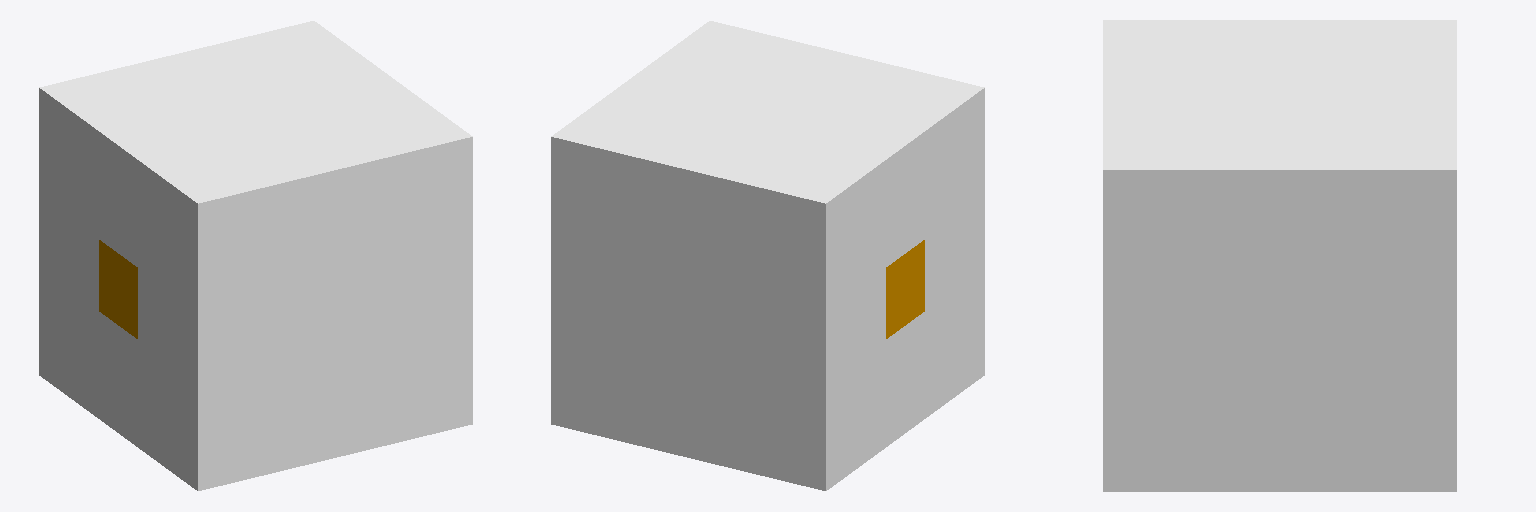
URDF robot description (movable_box):
<?xml version="1.0" ?>
<!-- =================================================================================== -->
<!-- |    This document was autogenerated by xacro from model_300.urdf.xacro           | -->
<!-- |    EDITING THIS FILE BY HAND IS NOT RECOMMENDED                                 | -->
<!-- =================================================================================== -->
<robot name="movable_box">
  <link name="box">
    <inertial>
      <origin rpy="1.5707963267948966 0 1.5707963267948966" xyz="0 0 0"/>
      <mass value="0.001"/>
      <inertia ixx="2.666666666666667e-05" ixy="0.0" ixz="0.0" iyy="2.666666666666667e-05" iyz="0.0" izz="2.666666666666667e-05"/>
    </inertial>
    <visual>
      <geometry>
        <!-- new mesh -->
        <mesh filename="package://namoros/models/movable_box/aruco_300.dae"/>
      </geometry>
      <origin rpy="0 0 0" xyz="0 0 -0.2"/>
    </visual>
    <collision>
      <geometry>
        <box size="0.4 0.4 0.4"/>
      </geometry>
    </collision>
  </link>
  <gazebo>
    <plugin filename="gz-sim-pose-publisher-system" name="gz::sim::systems::PosePublisher">
      <publish_link_pose>false</publish_link_pose>
      <publish_nested_model_pose>true</publish_nested_model_pose>
      <use_pose_vector_msg>true</use_pose_vector_msg>
      <update_frequency>30</update_frequency>
    </plugin>
  </gazebo>
</robot>

--- What the picture shows (computed from the rendered views, not written in the file) ---
The picture shows the robot from 3 angles, left to right: view 1: azimuth 30°, elevation 25°; view 2: azimuth 150°, elevation 25°; view 3: azimuth 270°, elevation 25°; orthographic projection.
Robot: movable_box — 1 links, 0 joints (none); root link box; default pose: all joints at 0.
Links seen in each view (by area): view 1: box; view 2: box; view 3: box.
Boxes of the visible links, left/top/right/bottom form: box: left=39, top=21, right=472, bottom=490; box: left=551, top=21, right=984, bottom=490; box: left=1103, top=20, right=1456, bottom=491.
Size in the robot's own frame: 0.4 by 0.4 by 0.4 metres.
1 mesh visuals loaded from 1 distinct referenced files (1 Collada DAE).